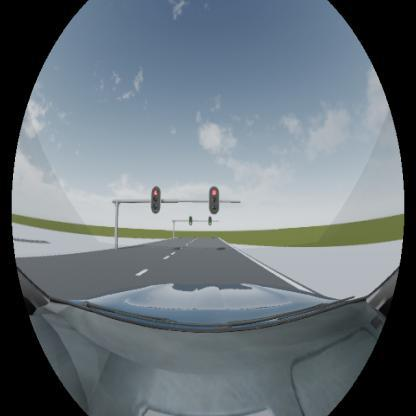Green Light: (208, 216, 212, 226), (188, 216, 192, 226)
Red Light: (210, 186, 220, 214), (151, 186, 161, 213)
